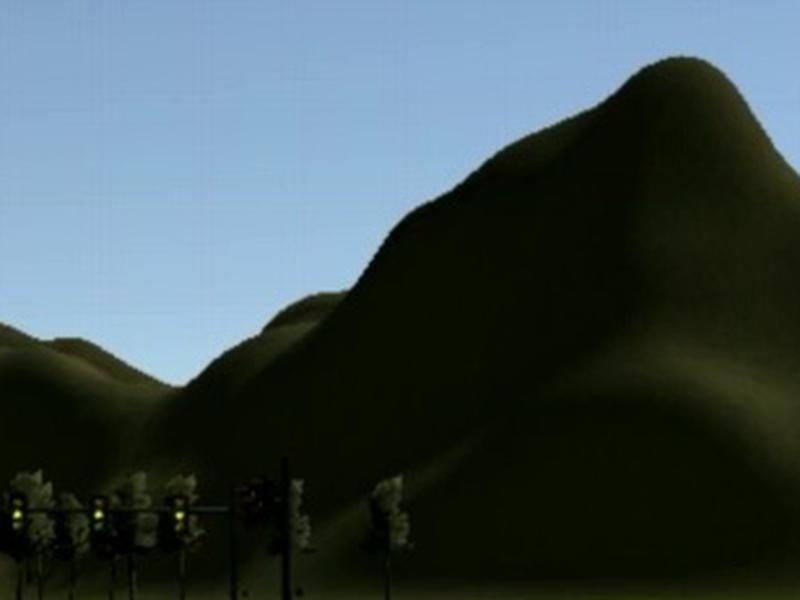Yellow: (8, 491, 28, 536), (170, 495, 188, 539), (89, 495, 107, 538)
